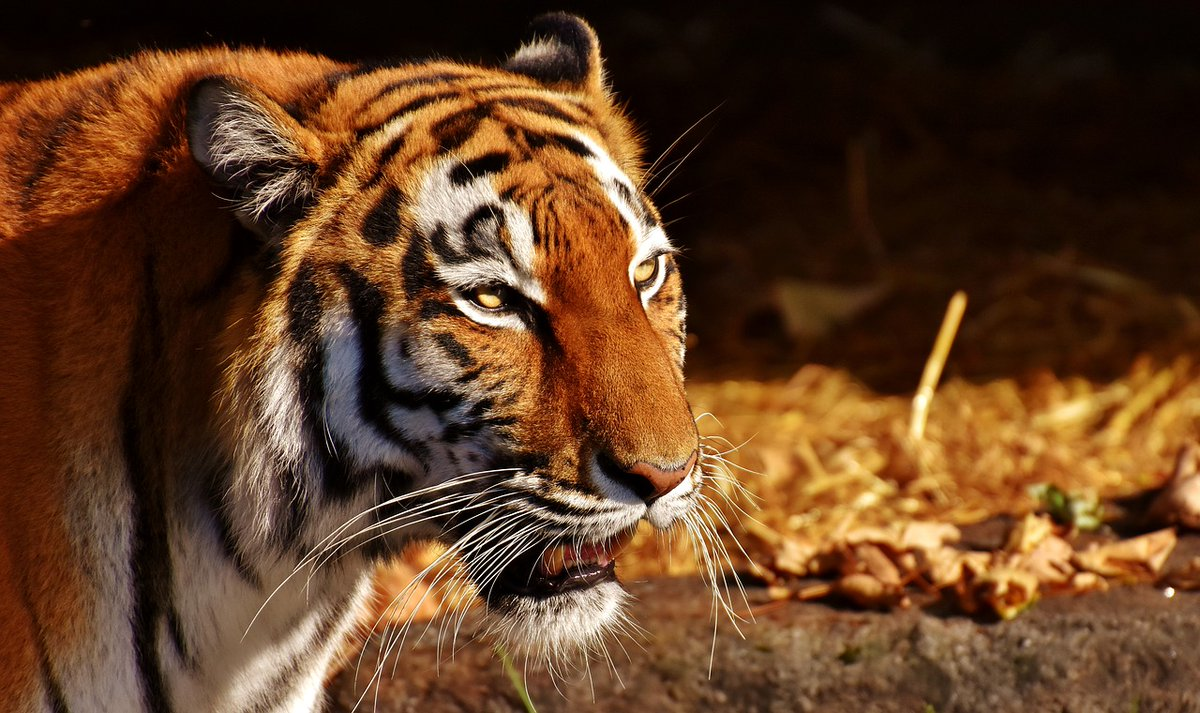Tiger: (29, 8, 717, 713)
